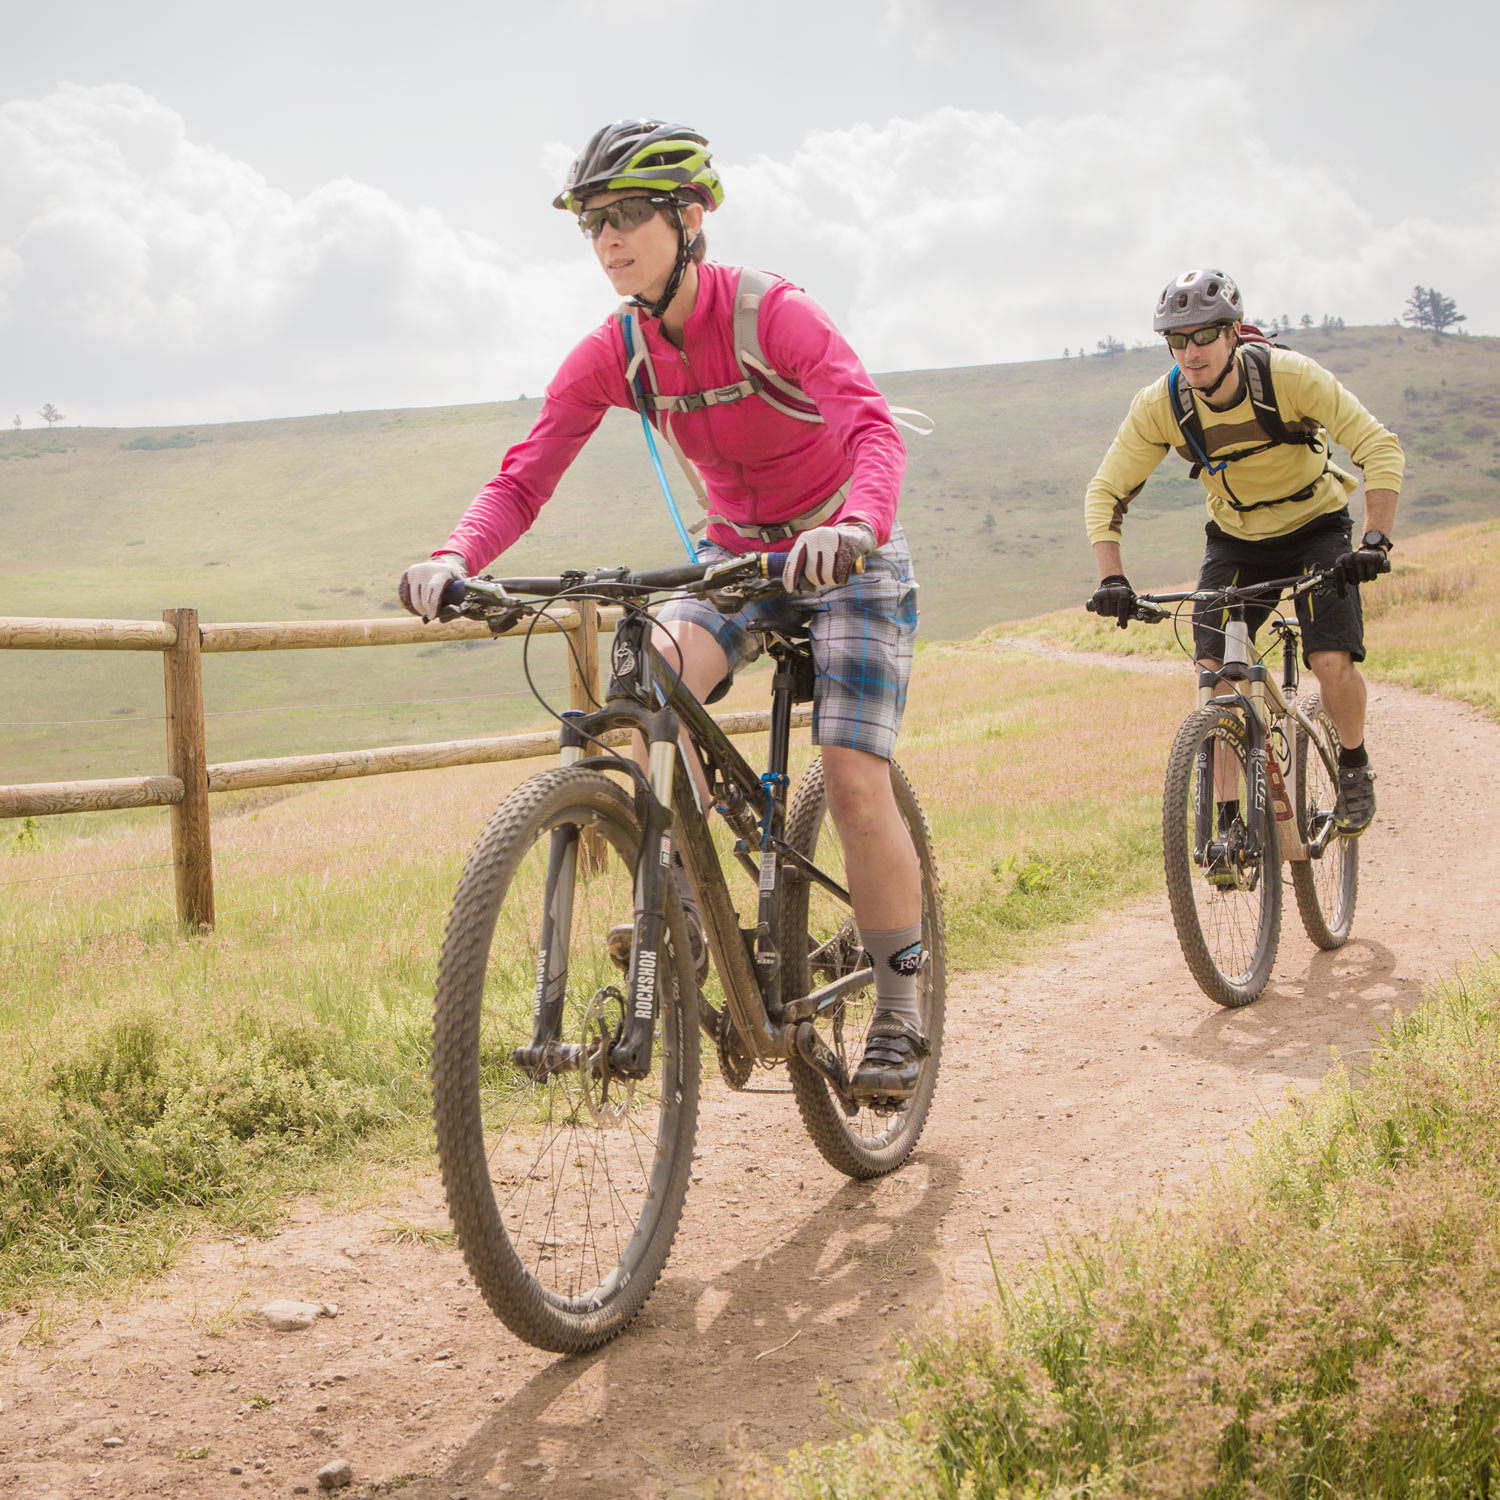helmet: (549, 109, 723, 227), (1148, 261, 1249, 348)
